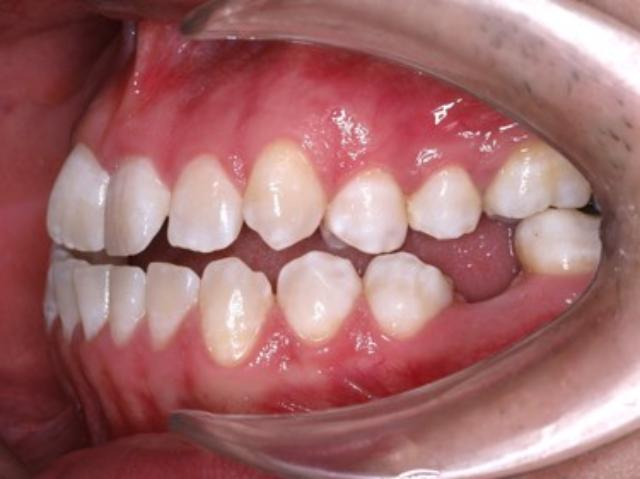canine class I: (198, 127, 366, 376)
